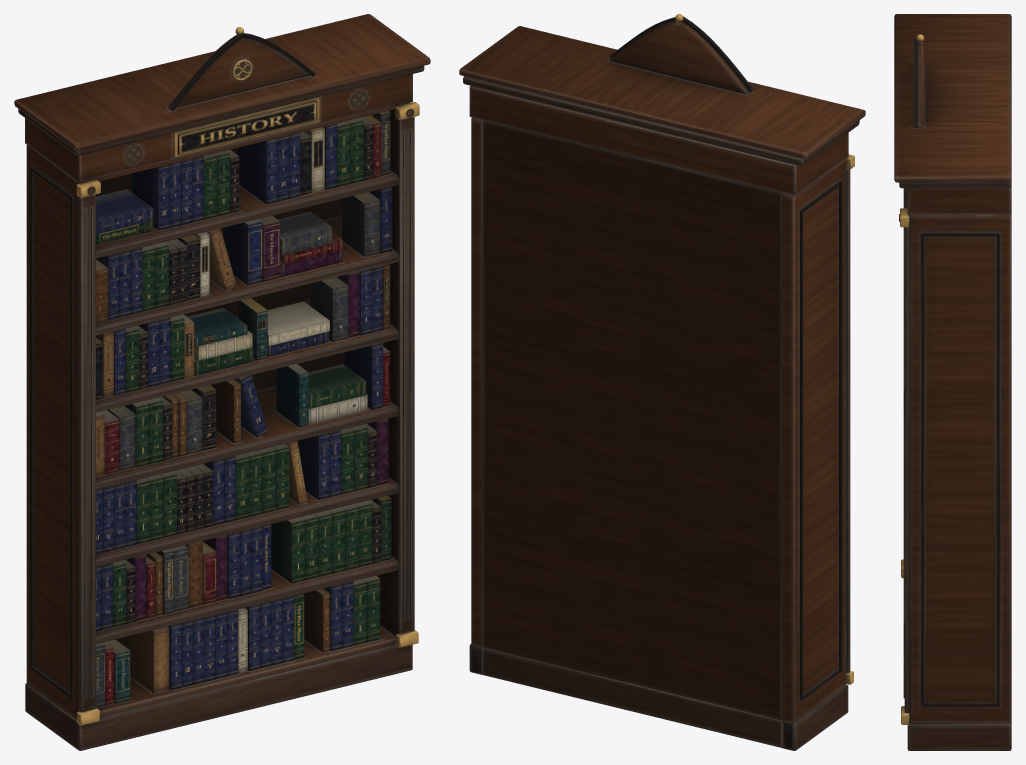
Rendered from LibShelfTall.fbx.
3 renders of one model, left to right at view 1: azimuth 30°, elevation 25°; view 2: azimuth 150°, elevation 25°; view 3: azimuth 270°, elevation 25°, orthographic. The views are drawn at different scales.
Visible parts, largest first — view 1: LibShelfTall; view 2: LibShelfTall; view 3: LibShelfTall.
Boxes of the visible parts, x1,y1,x2,y2 form: LibShelfTall: (14,14,430,750); LibShelfTall: (459,14,865,750); LibShelfTall: (894,14,1011,750).
Size of the model in its own units: 646 by 1177 by 195.
